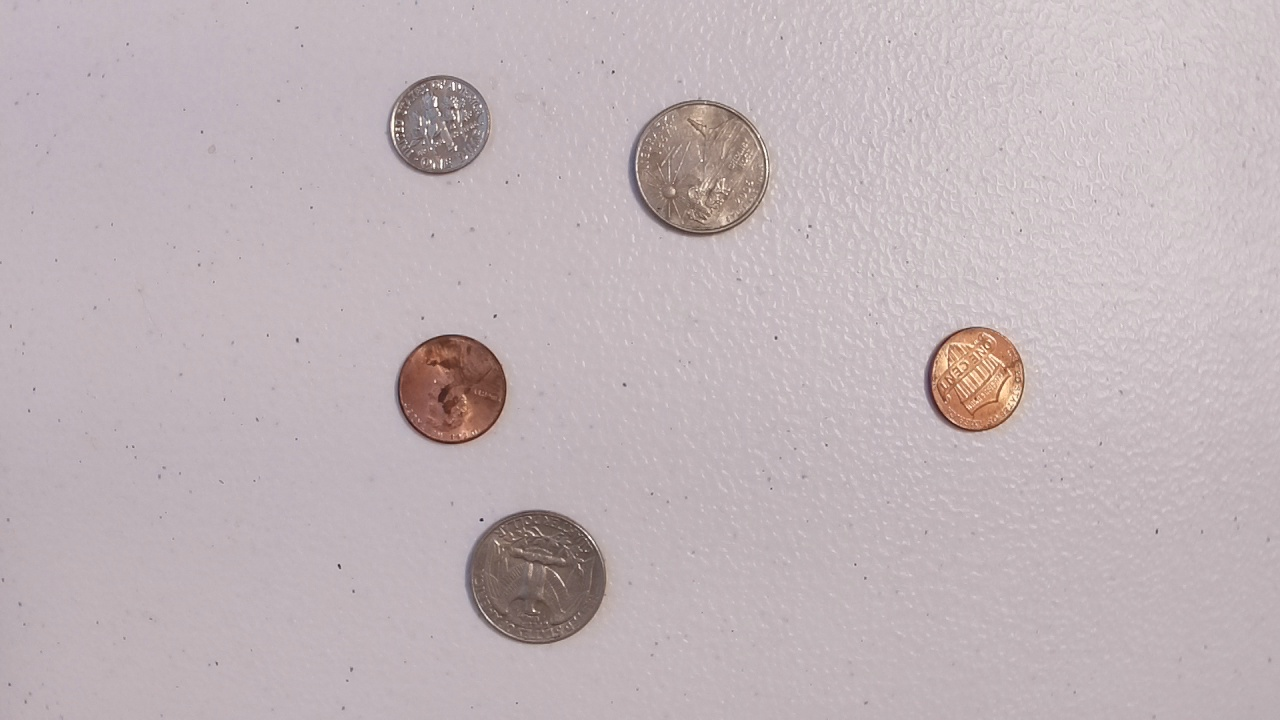dime: (382, 72, 494, 178)
penny: (392, 328, 512, 448), (923, 322, 1031, 436)
quarter: (626, 94, 774, 242), (460, 506, 612, 648)
